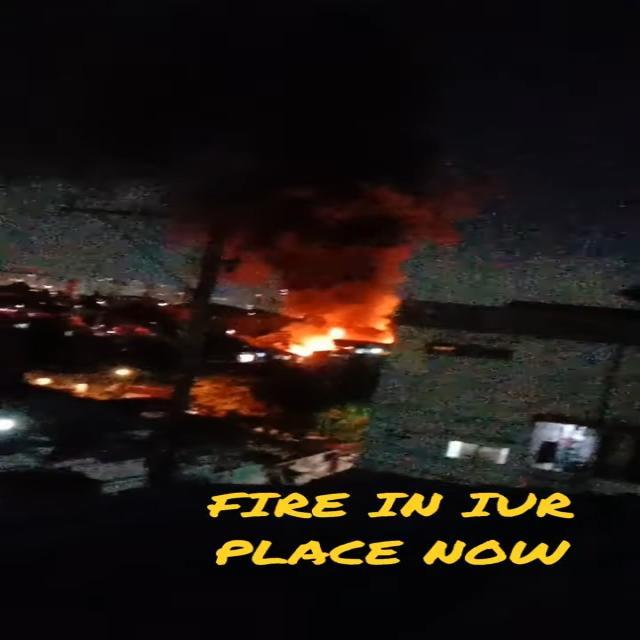Fire: (284, 320, 361, 360)
Smoke: (158, 121, 442, 317)
